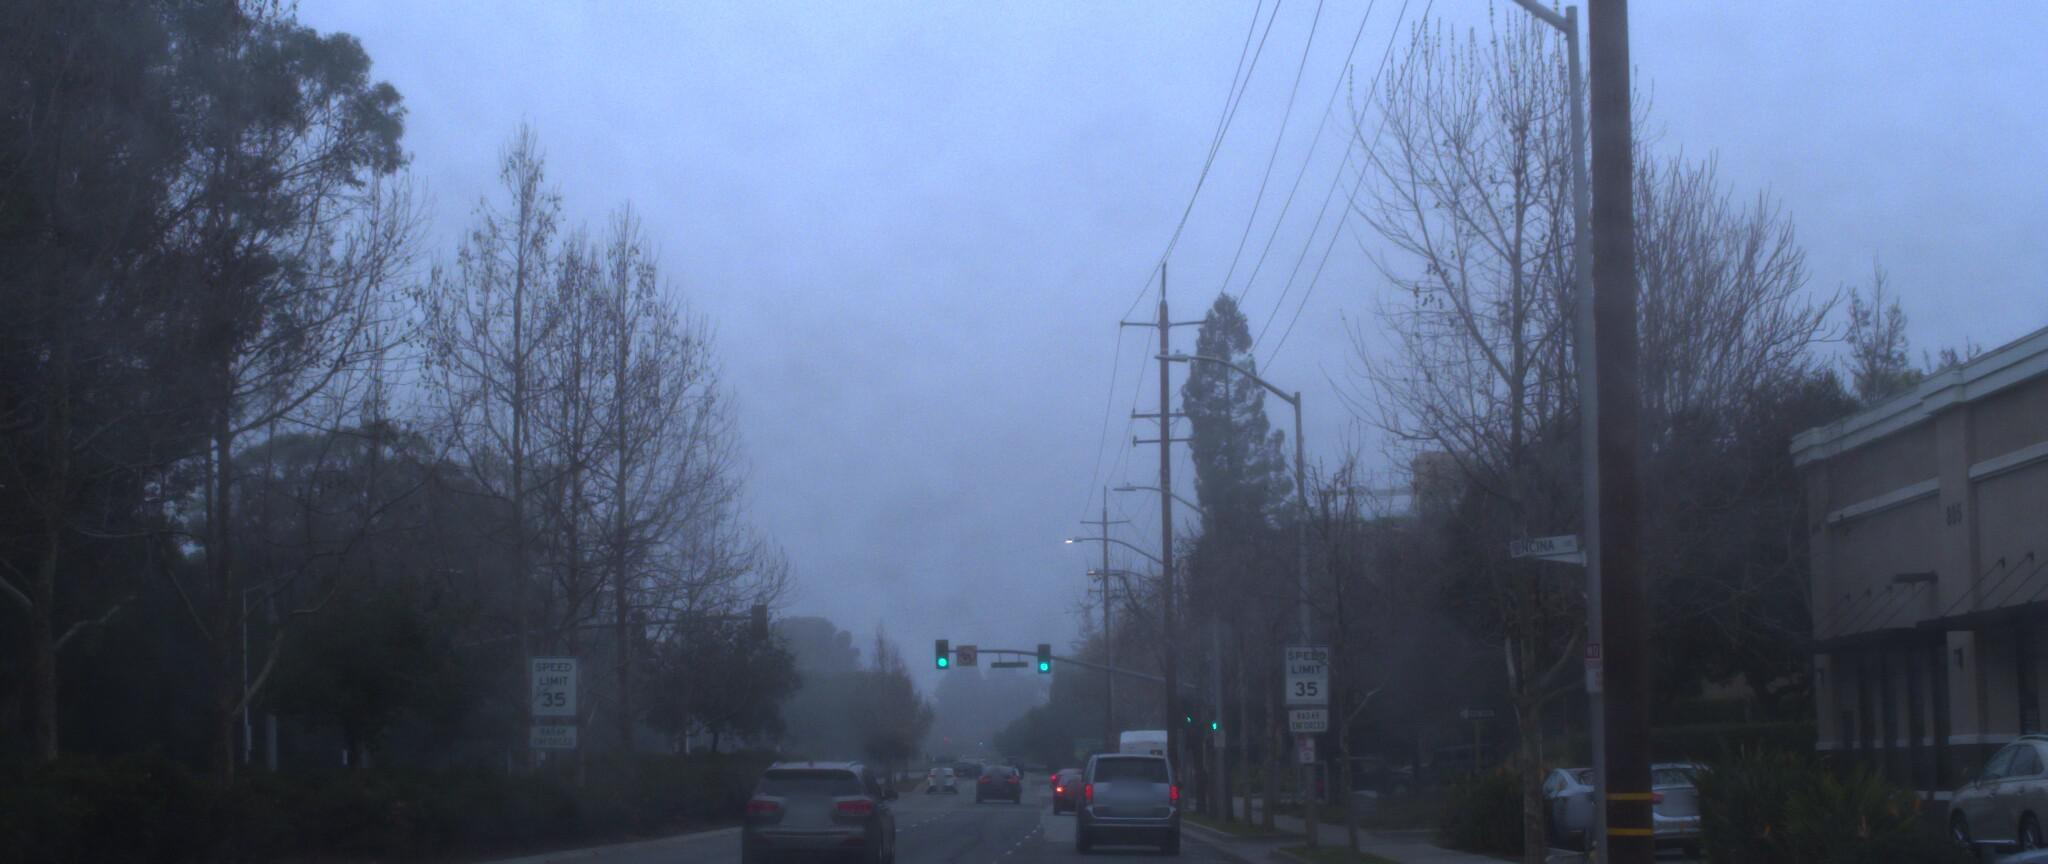car: (1896, 713, 2048, 864), (725, 740, 903, 864), (1556, 752, 1737, 859), (1921, 719, 2048, 864), (1496, 750, 1654, 847), (1070, 745, 1189, 850)
